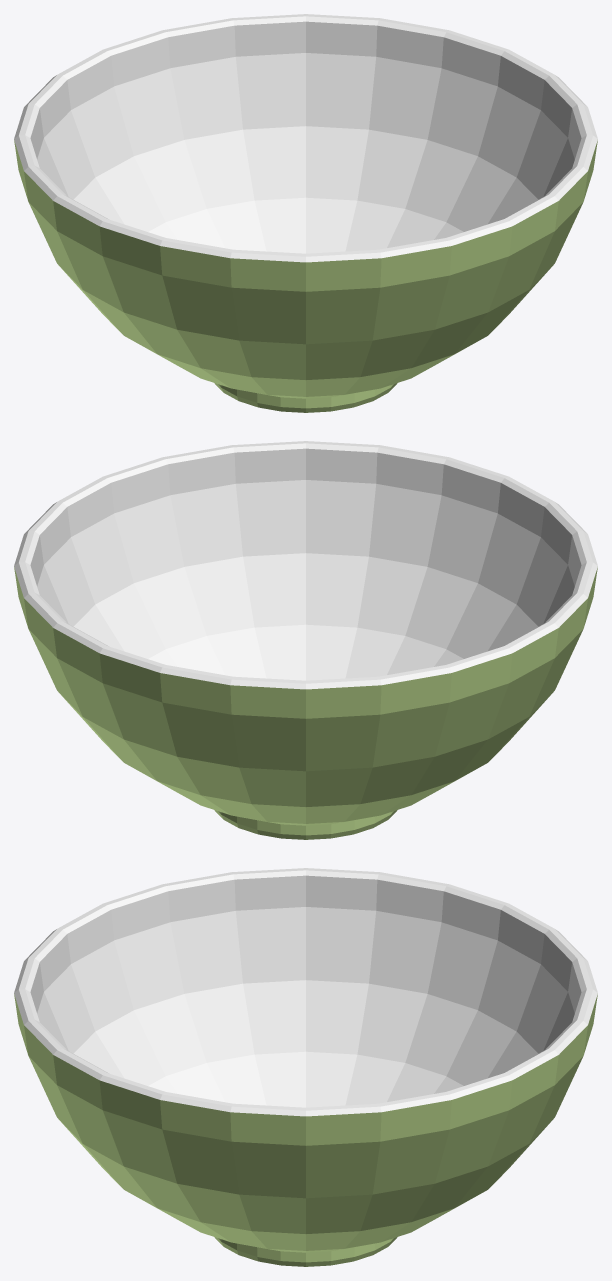
The model's file is 497 Bowls.gltf.
3 renders of one model, top to bottom at view 1: azimuth 30°, elevation 25°; view 2: azimuth 150°, elevation 25°; view 3: azimuth 270°, elevation 25°, orthographic.
Visible parts, largest first — view 1: node-0; view 2: node-0; view 3: node-0.
Boxes of the visible parts, x1,y1,x2,y2 form: node-0: (14,14,597,412); node-0: (14,441,597,839); node-0: (14,868,597,1266).
Bounding box in the file's own units: 68.91 × 31.26 × 68.91.
Materials: 1 (1 with a texture image).
